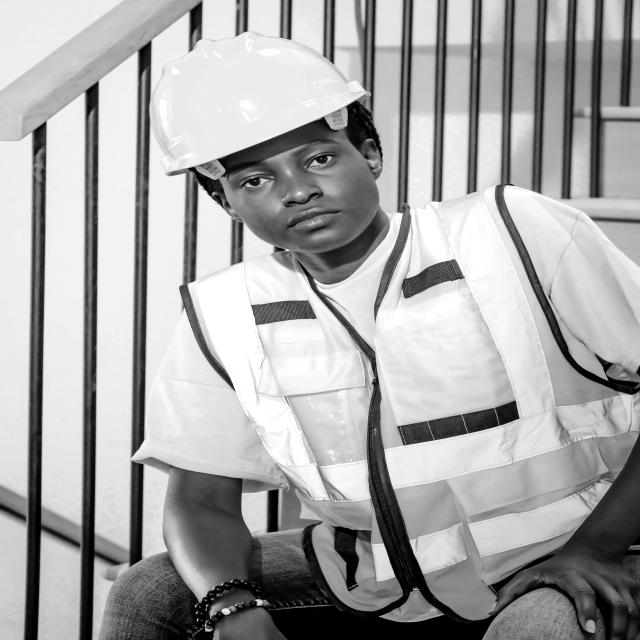Vest: (240, 189, 619, 618)
